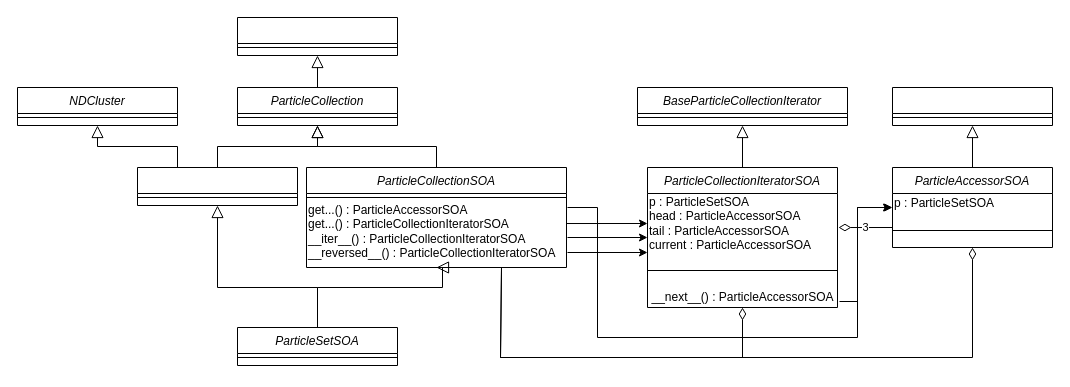
The diagram is 1070 pixels wide and 387 high, and some of its shapes have lost their labels. Here are the shapes that lost their labels. From the top down, the centre of each, then its label:
At (x=317, y=36): "Collection".
At (x=972, y=106): "BaseParticleSetAccessor".
At (x=217, y=186): "BaseParticleSet".
